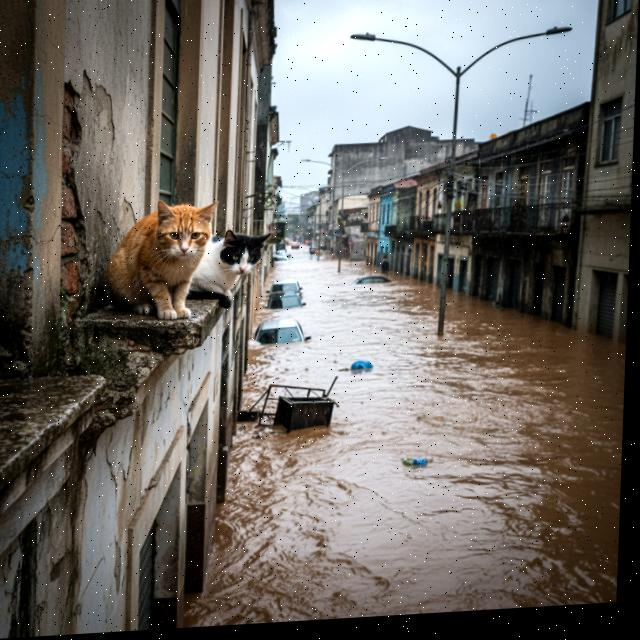cat: (100, 193, 221, 327), (194, 214, 274, 306)
